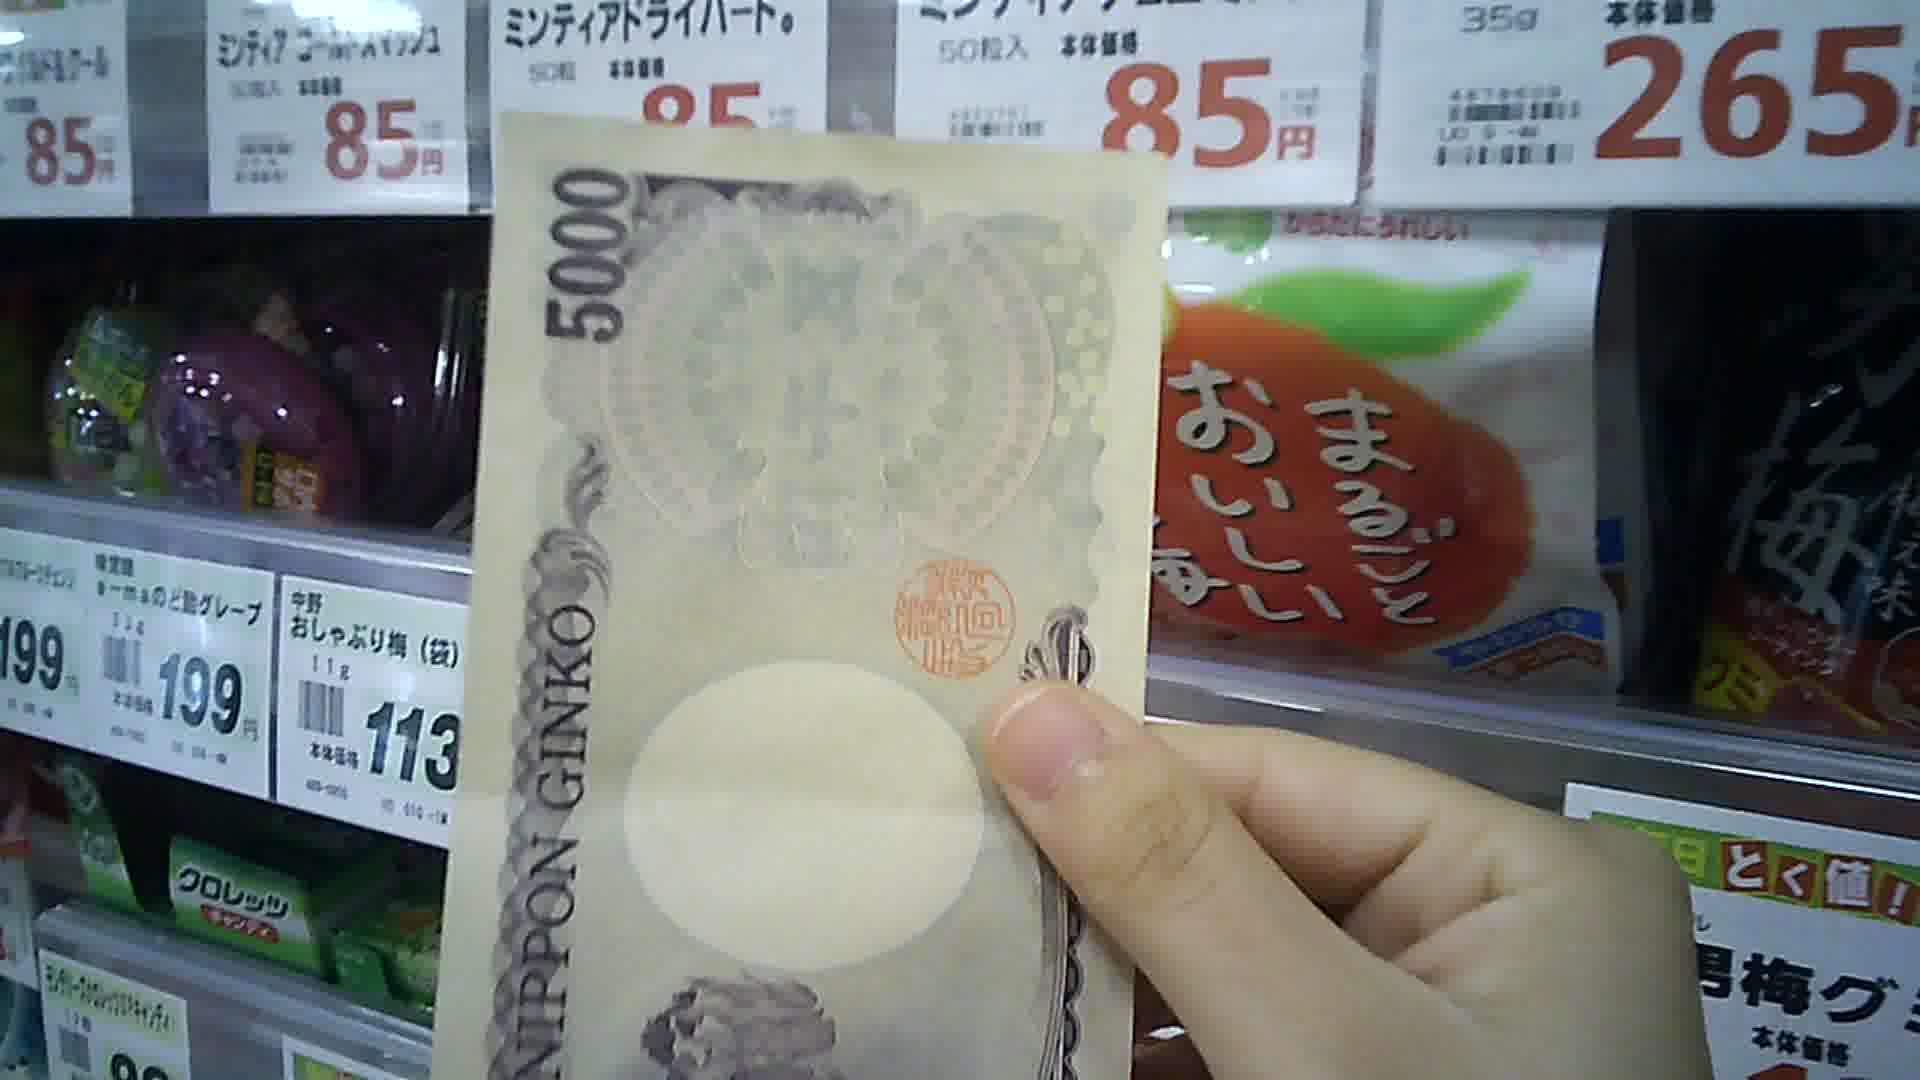5,000 Yen: (454, 105, 1160, 1079)
